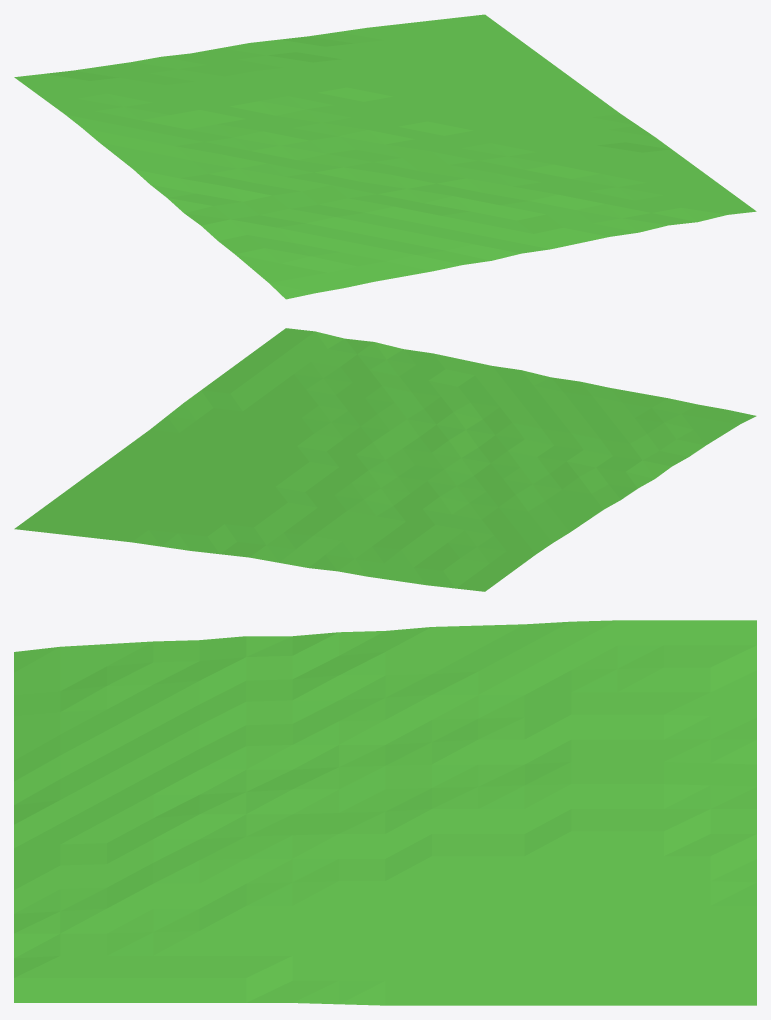
Rendered from natura_world_135.gltf.
The picture shows the model from 3 angles, top to bottom: view 1: azimuth 30°, elevation 25°; view 2: azimuth 150°, elevation 25°; view 3: azimuth 270°, elevation 25°; orthographic projection. The views are drawn at different scales.
Visible parts, largest first — view 1: natura_world.135; view 2: natura_world.135; view 3: natura_world.135.
Boxes of the visible parts, x1,y1,x2,y2 form: natura_world.135: (14, 14, 756, 299); natura_world.135: (14, 328, 756, 591); natura_world.135: (14, 620, 756, 1005).
Bounding box in the file's own units: 0.125 × 0.0132 × 0.125.
